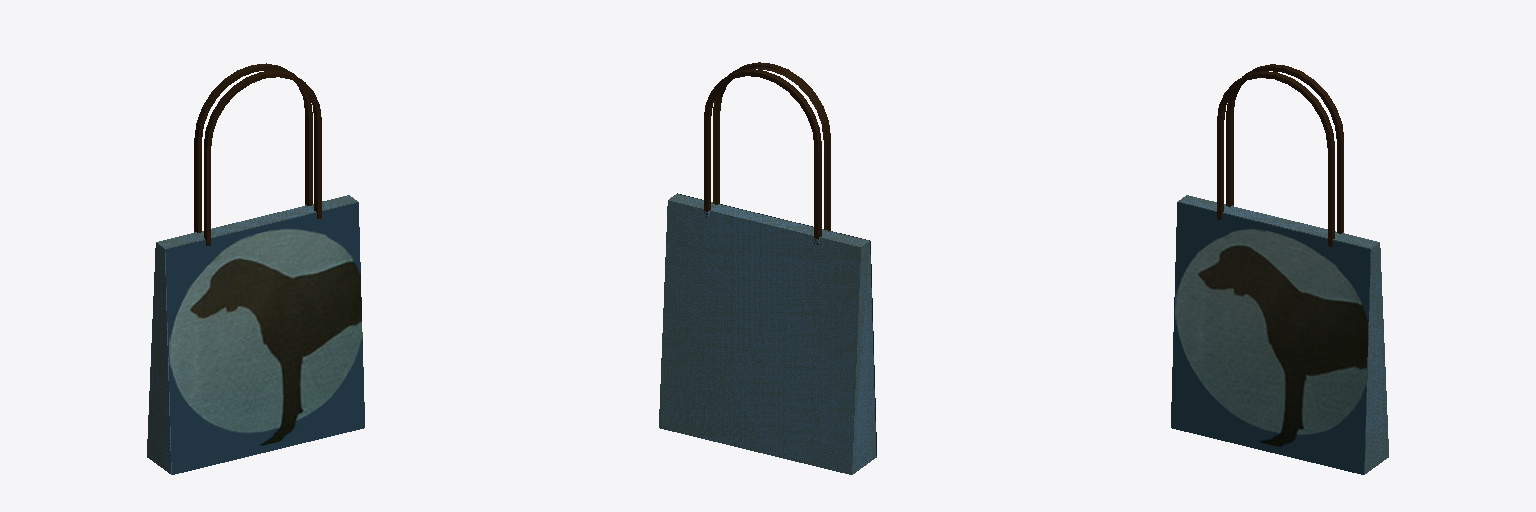
3 views of the same model, side by side, from view 1: azimuth 30°, elevation 25°; view 2: azimuth 150°, elevation 25°; view 3: azimuth 330°, elevation 25° (orthographic).
Parts seen in each view (by area): view 1: mesh6_mesh6-geometry, mesh5_mesh5-geometry, mesh2_mesh2-geometry, mesh1_mesh1-geometry; view 2: mesh5_mesh5-geometry, mesh1_mesh1-geometry, mesh2_mesh2-geometry; view 3: mesh6_mesh6-geometry, mesh5_mesh5-geometry, mesh2_mesh2-geometry, mesh1_mesh1-geometry.
Boxes of the visible parts, x1=… form: mesh6_mesh6-geometry: x1=165, y1=202, x2=364, y2=474; mesh5_mesh5-geometry: x1=147, y1=195, x2=357, y2=474; mesh2_mesh2-geometry: x1=204, y1=70, x2=321, y2=245; mesh1_mesh1-geometry: x1=194, y1=63, x2=312, y2=232; mesh5_mesh5-geometry: x1=659, y1=194, x2=876, y2=474; mesh1_mesh1-geometry: x1=704, y1=69, x2=821, y2=238; mesh2_mesh2-geometry: x1=713, y1=62, x2=830, y2=231; mesh6_mesh6-geometry: x1=1171, y1=202, x2=1370, y2=474; mesh5_mesh5-geometry: x1=1178, y1=195, x2=1388, y2=474; mesh2_mesh2-geometry: x1=1217, y1=71, x2=1334, y2=246; mesh1_mesh1-geometry: x1=1226, y1=64, x2=1343, y2=233.
Size of the model in its own units: 0.474 by 0.874 by 0.1067.
5 materials, 1 textured.